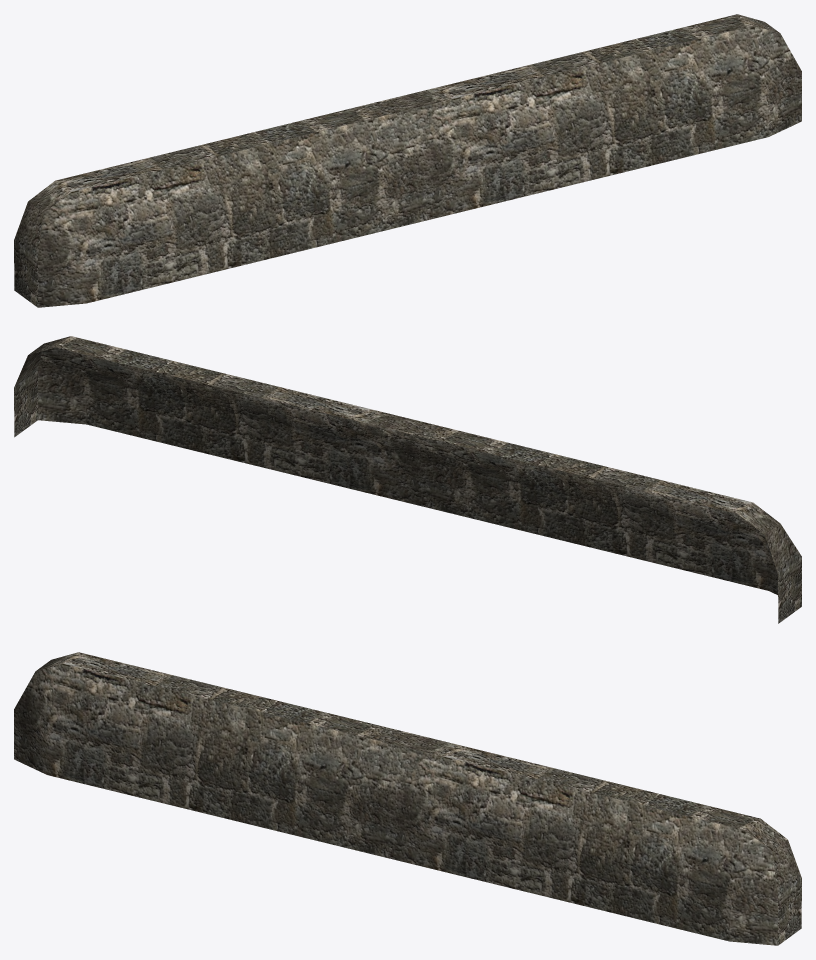
Rendered from CK Foundation edge.dae.
3 views of the same model, one above another, from view 1: azimuth 30°, elevation 25°; view 2: azimuth 150°, elevation 25°; view 3: azimuth 330°, elevation 25° (orthographic).
Visible parts, largest first — view 1: Plane; view 2: Plane; view 3: Plane.
Part boxes in pixels (x1,y1,x2,y2): Plane: (14,14,801,307); Plane: (14,336,801,623); Plane: (14,652,801,945).
Bounding box in the file's own units: 5.6 × 0.4029 × 0.7.
Materials: 1 (1 with a texture image).
